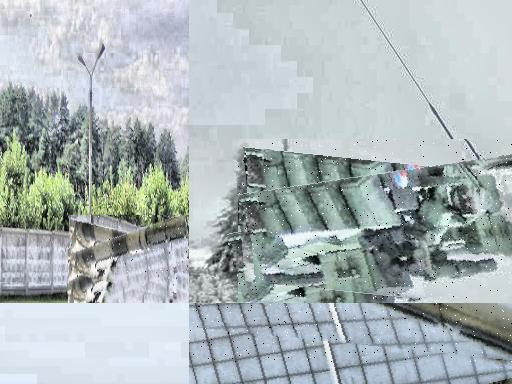tanks: (236, 157, 512, 301), (70, 217, 188, 286), (375, 304, 512, 350), (186, 225, 190, 243)
